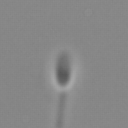normal: (50, 91, 71, 128)
